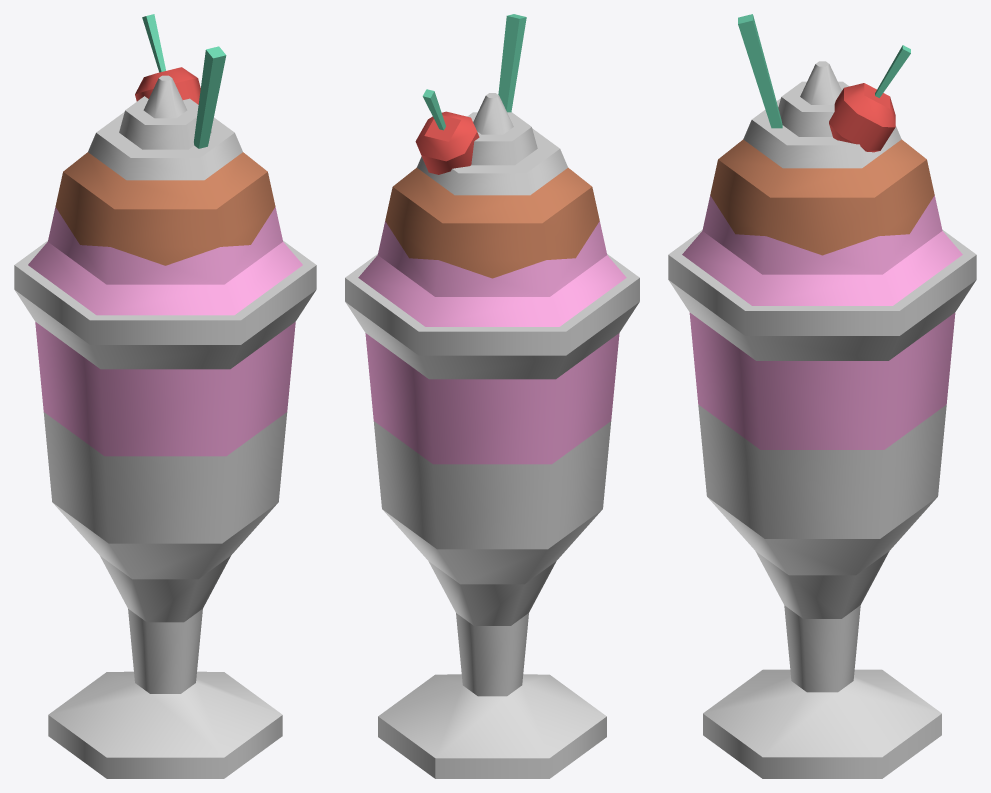
File: sundae.gltf
The picture shows the model from 3 angles, left to right: view 1: azimuth 30°, elevation 25°; view 2: azimuth 150°, elevation 25°; view 3: azimuth 270°, elevation 25°; orthographic projection. The views are drawn at different scales.
Visible parts, largest first — view 1: sundae, straw, cherry; view 2: sundae, cherry, straw; view 3: sundae, cherry, straw.
Part boxes in pixels (bbox=[...]): sundae: bbox=[14, 75, 316, 778]; straw: bbox=[194, 46, 226, 148]; cherry: bbox=[135, 14, 200, 104]; sundae: bbox=[345, 93, 639, 778]; cherry: bbox=[415, 89, 479, 174]; straw: bbox=[498, 14, 526, 112]; sundae: bbox=[668, 61, 976, 778]; cherry: bbox=[829, 45, 910, 152]; straw: bbox=[738, 14, 782, 128].
Size of the model in its own units: 0.2232 by 0.6679 by 0.2577.
